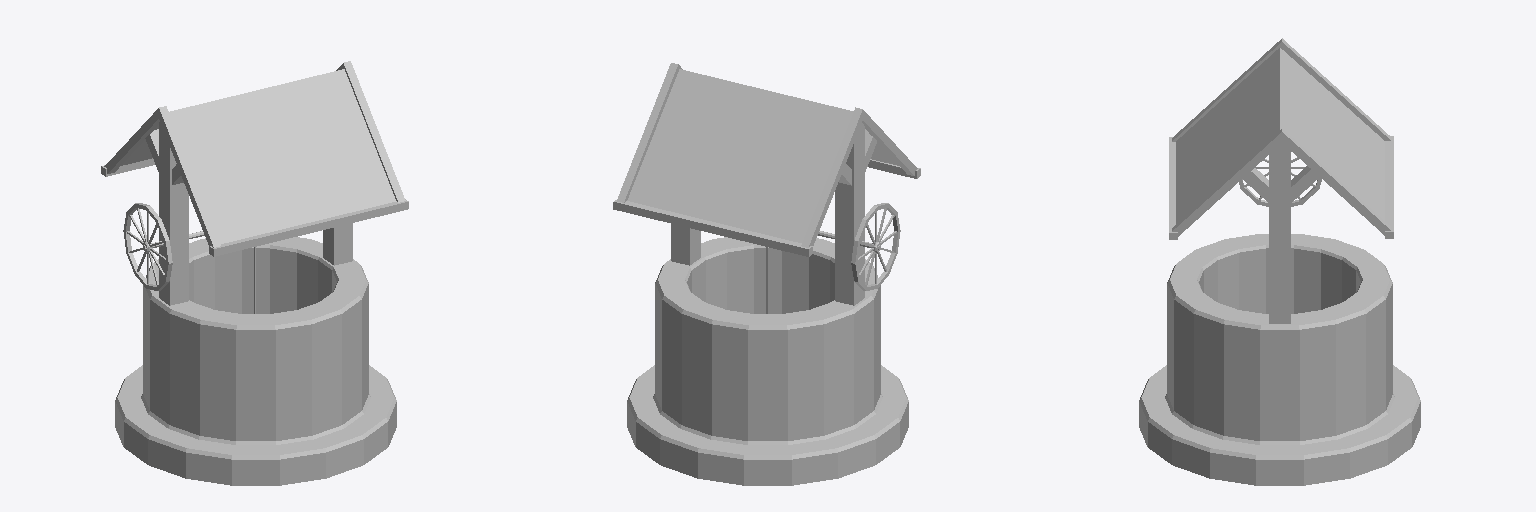
File: well_001.obj
The picture shows the model from 3 angles: view 1: azimuth 30°, elevation 25°; view 2: azimuth 150°, elevation 25°; view 3: azimuth 270°, elevation 25°; orthographic projection.
Parts seen in each view (by area): view 1: Studna; view 2: Studna; view 3: Studna.
Part boxes in pixels (x1,y1,x2,y2): Studna: (101, 61, 408, 485); Studna: (613, 63, 920, 485); Studna: (1139, 38, 1420, 485).
Size of the model in its own units: 2.56 by 3.48 by 2.6.